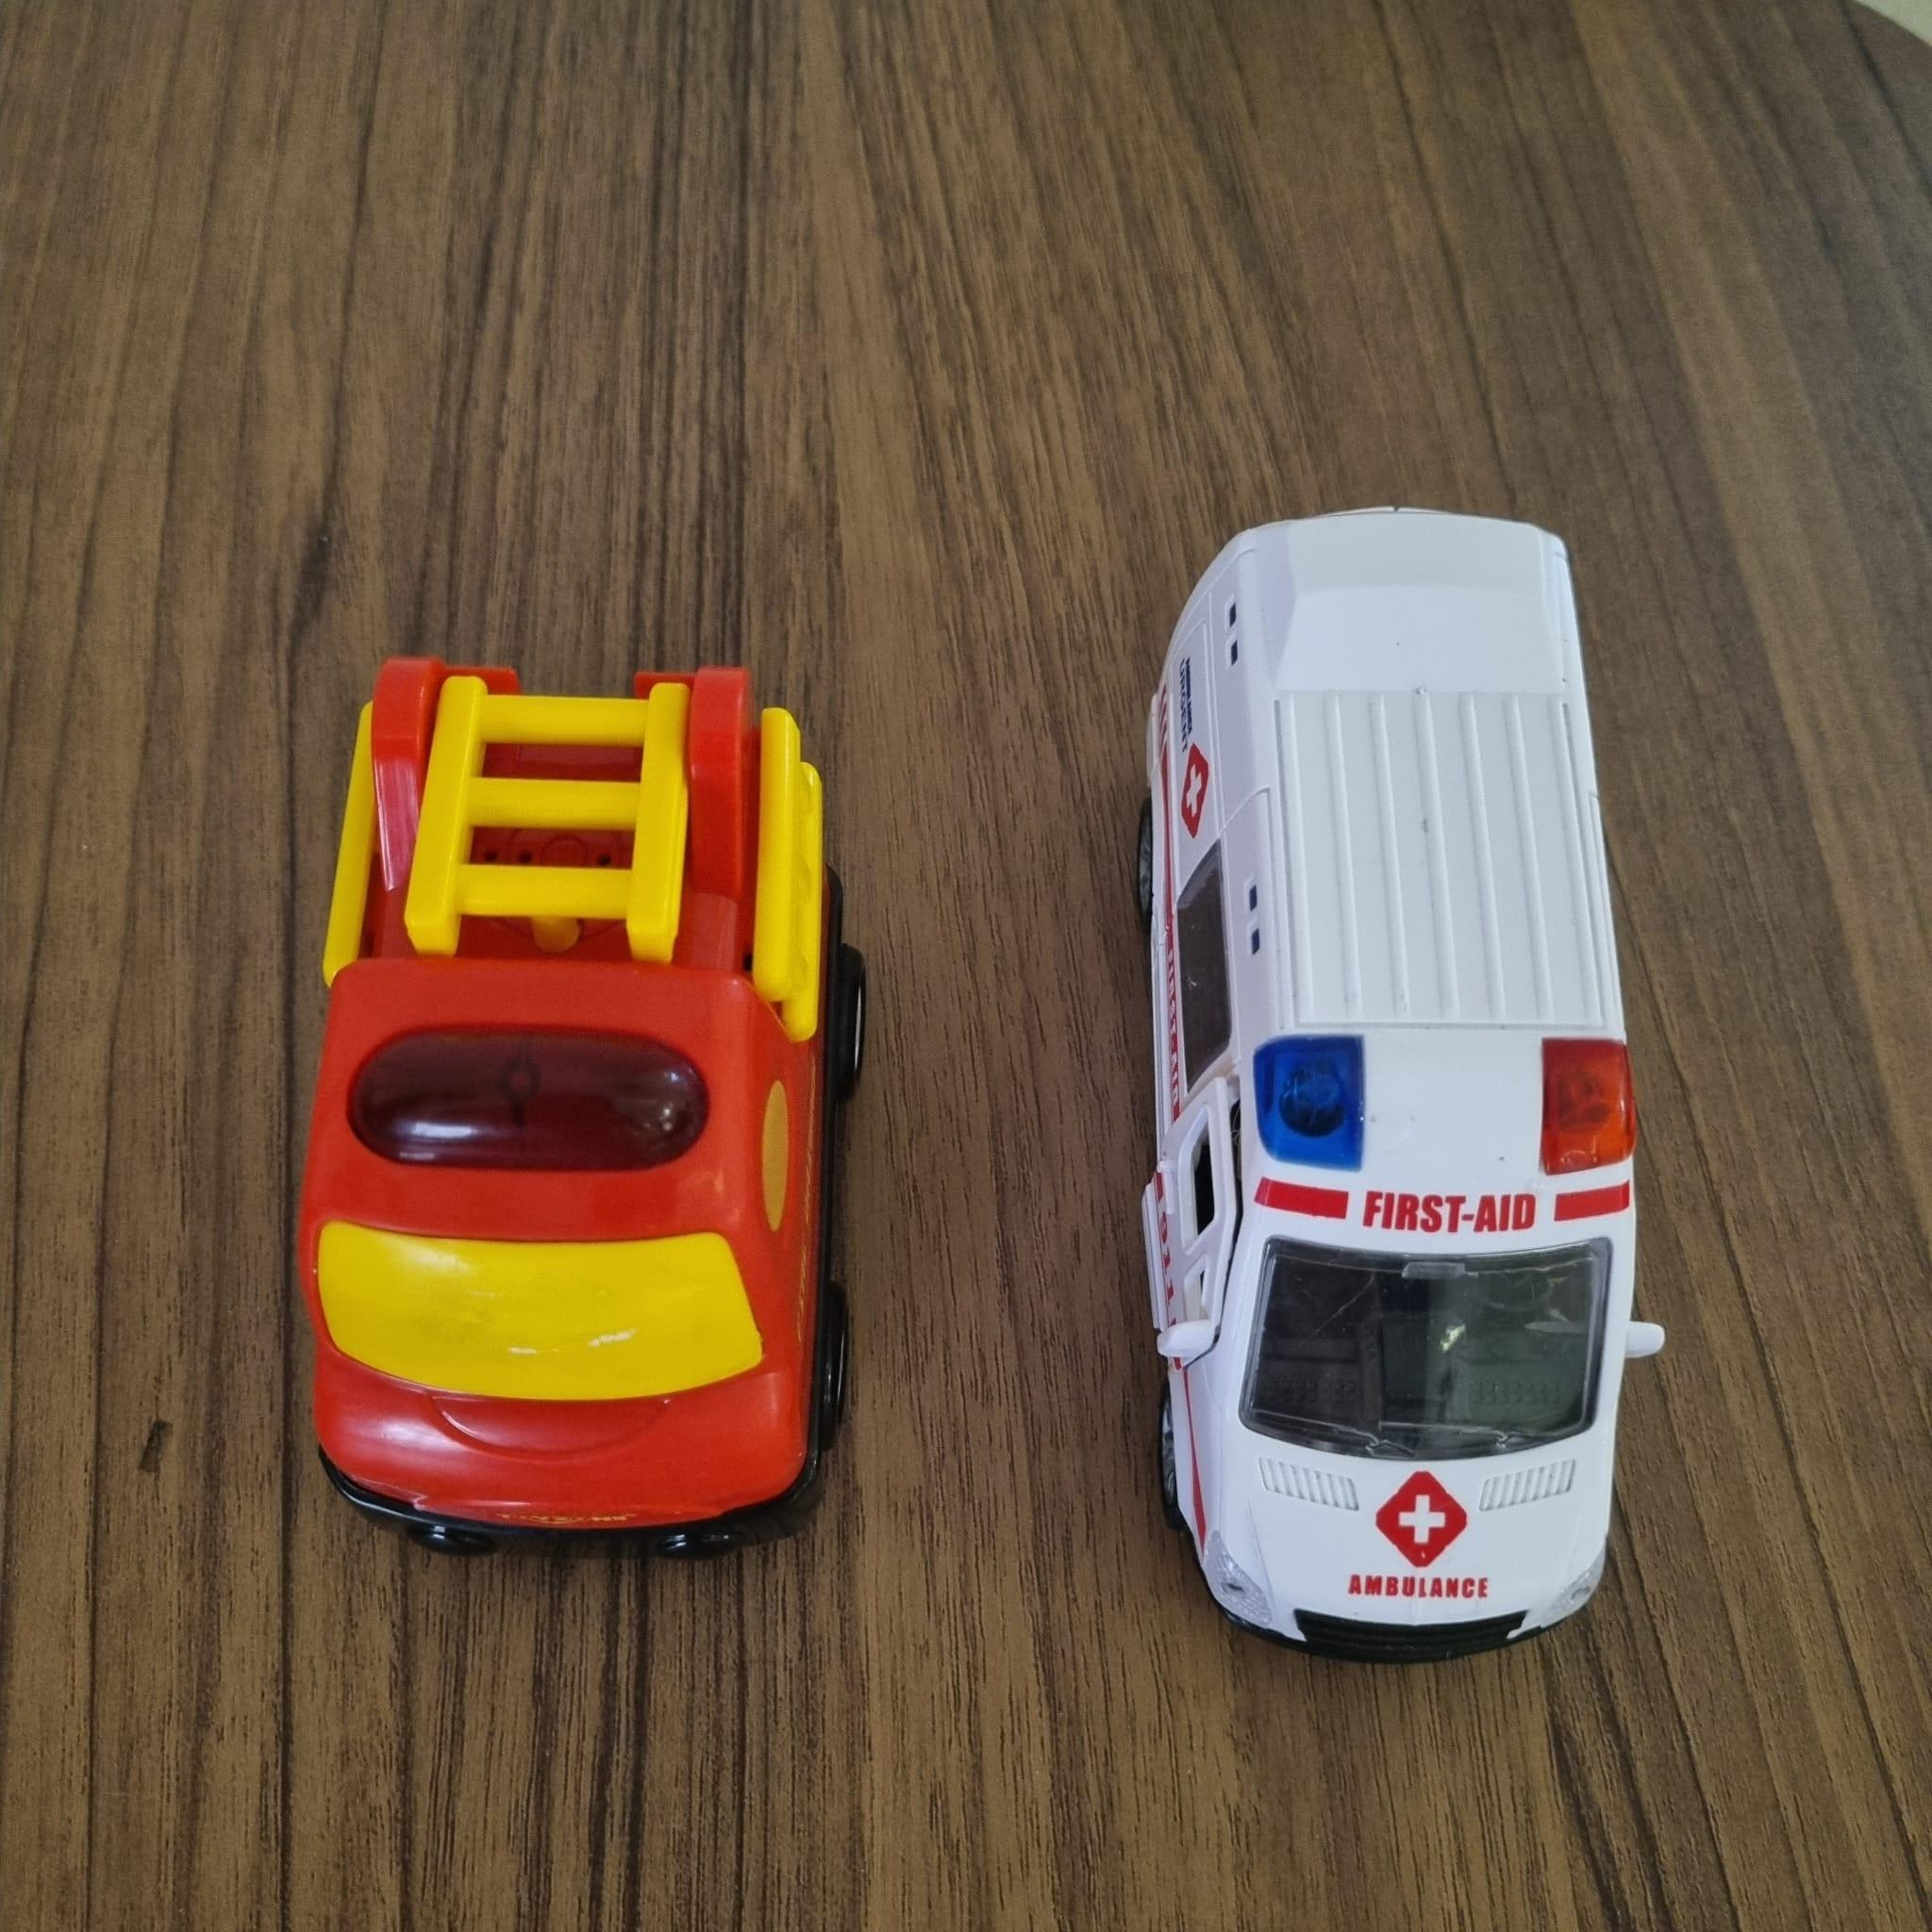ambulance_off: (1138, 506, 1665, 1670)
firetruck_off: (288, 655, 870, 1566)
